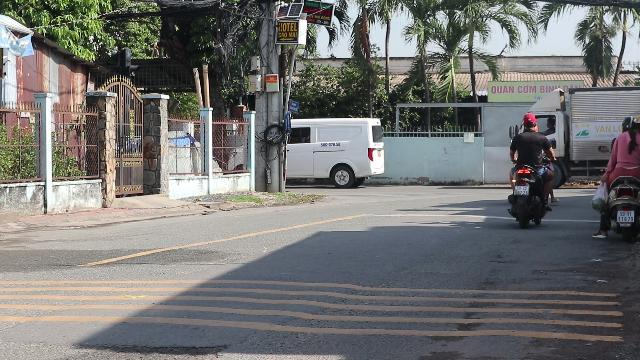helmet: (620, 116, 638, 132)
licenseplate: (617, 210, 633, 221), (515, 186, 529, 194)
motorcyclist: (590, 114, 640, 242), (506, 112, 556, 226)
nohelmet: (522, 113, 538, 131)
